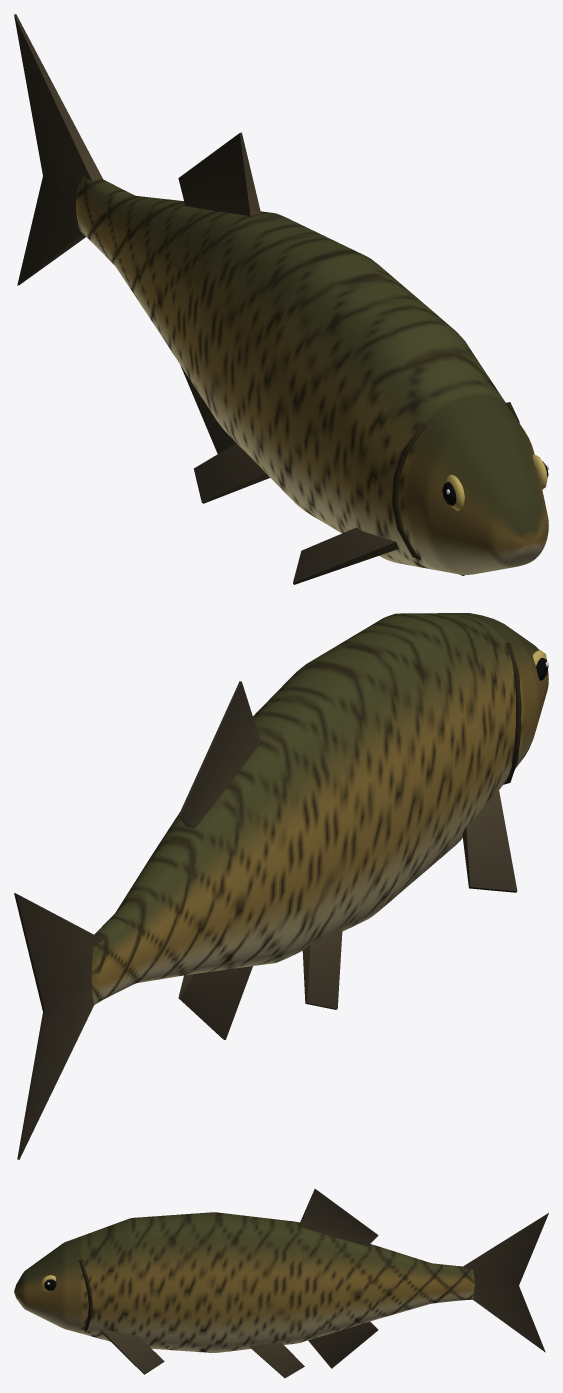
The model's file is Lepidotes.fbx.
3 renders of one model, top to bottom at view 1: azimuth 30°, elevation 25°; view 2: azimuth 150°, elevation 25°; view 3: azimuth 270°, elevation 25°, orthographic. The views are drawn at different scales.
Visible parts, largest first — view 1: Lepidotes; view 2: Lepidotes; view 3: Lepidotes.
Part boxes in pixels (x1,y1,x2,y2): Lepidotes: [14, 14, 548, 584]; Lepidotes: [14, 613, 548, 1159]; Lepidotes: [14, 1189, 548, 1378].
Bounding box in the file's own units: 0.4024 × 0.5936 × 1.6.
